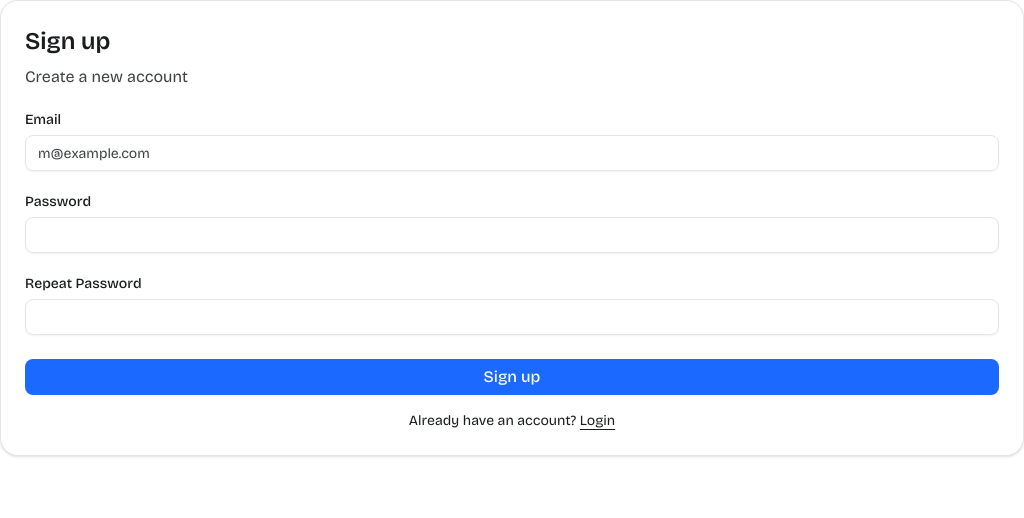
Test: SignUpForm › shows error when signup fails
This screenshot has width=1024, height=518.
Type "existing@example.com" into the field labelled "Email".
click(512, 153); type("existing@example.com")  # box [25,135,999,171]
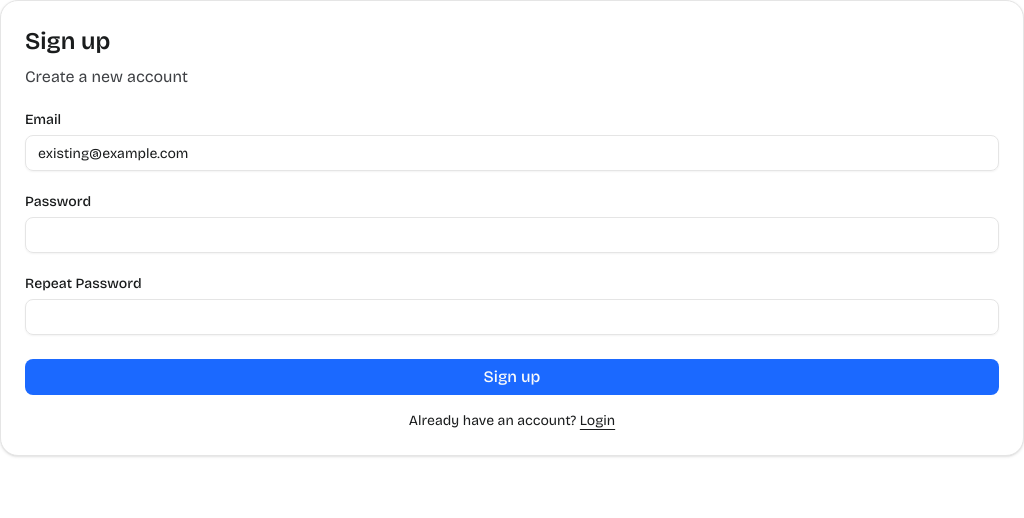
Type "password123" into the password field labelled "Password".
click(512, 235); type("password123")  # box [25,217,999,253]
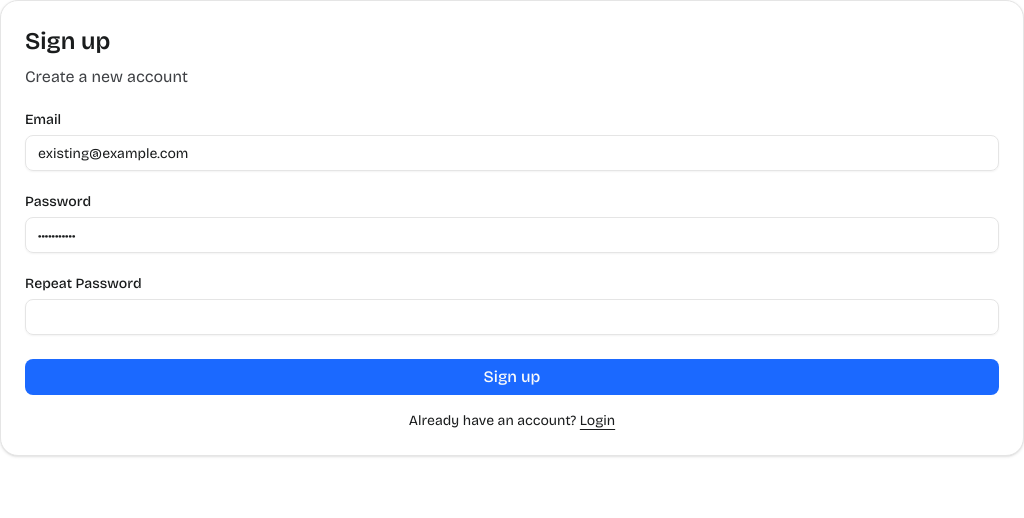
Type "password123" into the password field labelled "Repeat Password".
click(512, 317); type("password123")  # box [25,299,999,335]
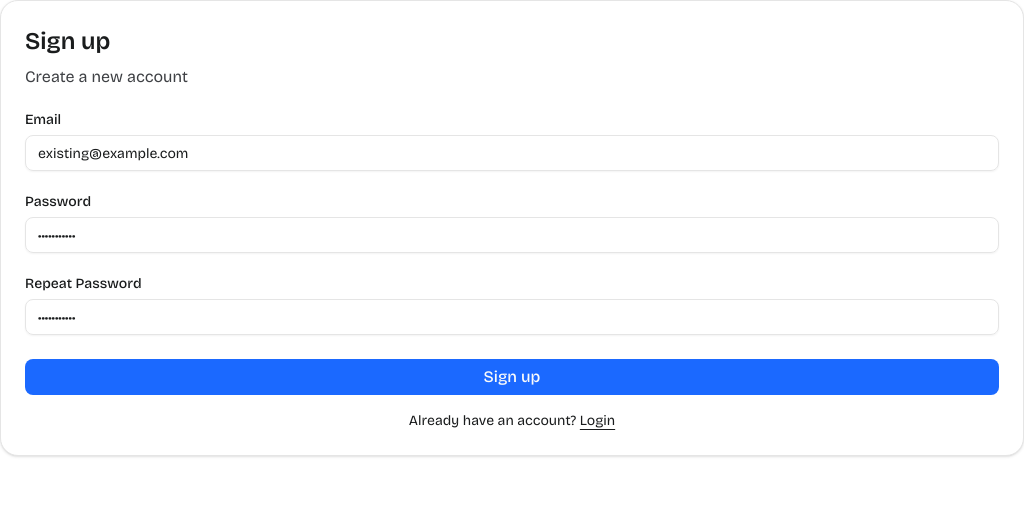
Click the button "Sign up".
click(512, 377)  # box [25,359,999,395]
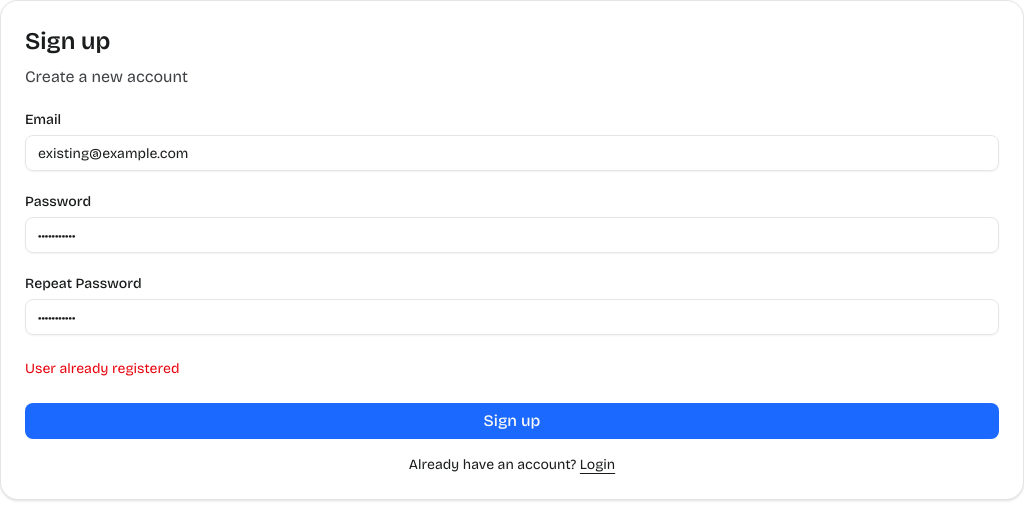
Check: the text "User already registered" is shown, box [25,360,179,377]
